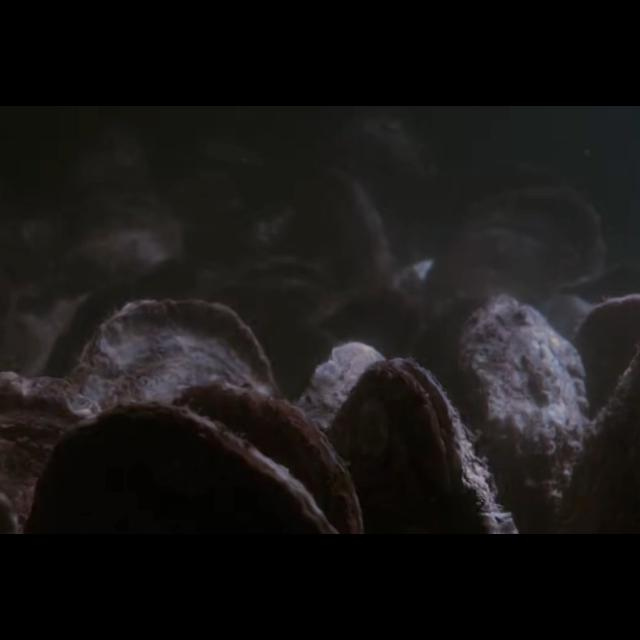Oyster-Closed: (68, 299, 276, 535), (31, 403, 340, 535), (452, 294, 592, 534), (172, 382, 364, 534), (420, 184, 608, 330), (294, 343, 386, 534), (0, 372, 102, 534), (290, 160, 394, 302), (60, 197, 186, 291), (572, 294, 640, 448)
Oyster-Open: (328, 358, 514, 534), (215, 252, 338, 328)
